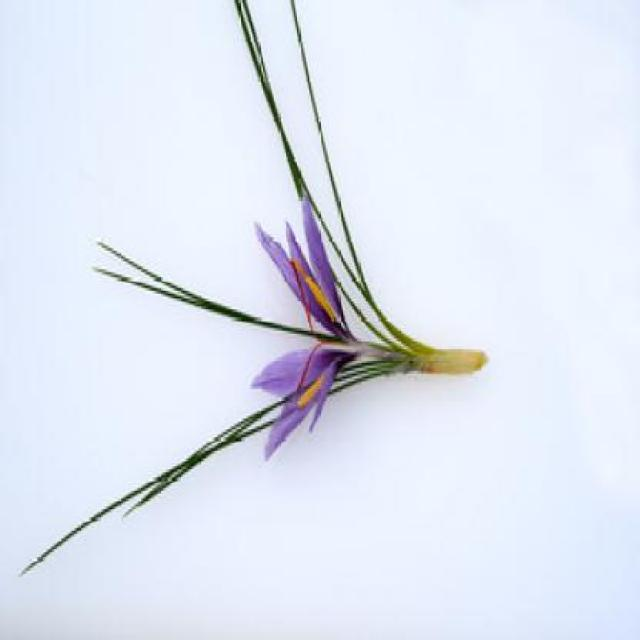Flower: (244, 195, 362, 466)
stigma: (284, 253, 318, 338), (294, 335, 334, 395)
